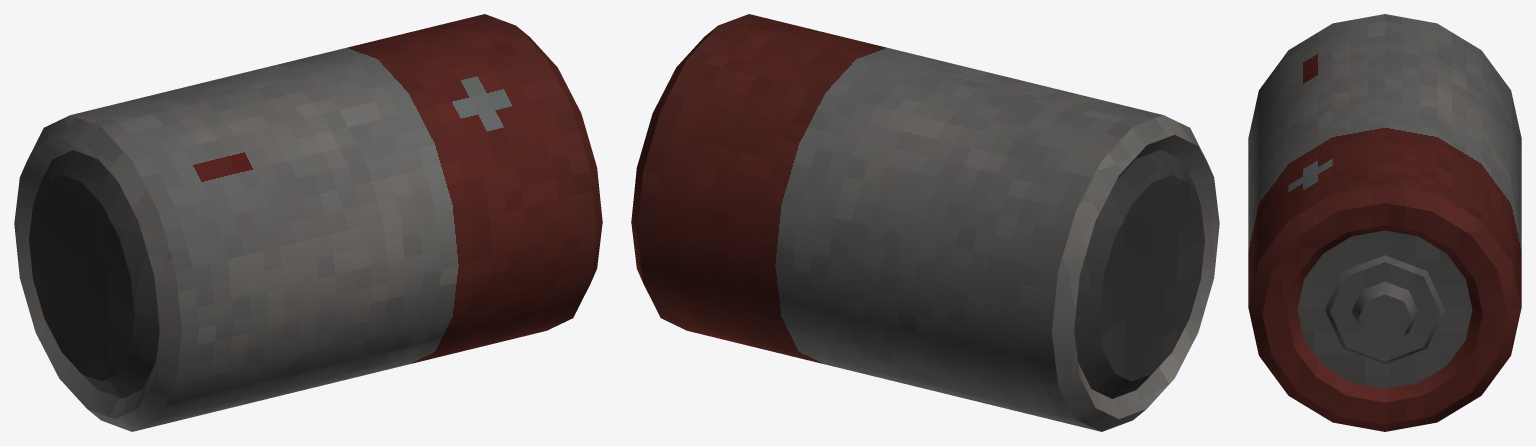
Rendered from battery_mp_2_1.glb.
The picture shows the model from 3 angles, left to right: view 1: azimuth 30°, elevation 25°; view 2: azimuth 150°, elevation 25°; view 3: azimuth 270°, elevation 25°; orthographic projection. The views are drawn at different scales.
Parts seen in each view (by area): view 1: battery_mp_2_1; view 2: battery_mp_2_1; view 3: battery_mp_2_1.
Boxes of the visible parts, x1,y1,x2,y2 form: battery_mp_2_1: (14,14,602,431); battery_mp_2_1: (631,14,1219,431); battery_mp_2_1: (1248,14,1521,431).
Bounding box in the file's own units: 0.0883 × 0.054 × 0.054.
Materials: 1 (1 with a texture image).
